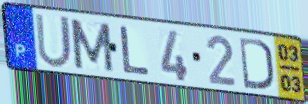2: (205, 34, 238, 89)
4: (159, 27, 191, 84)
D: (238, 35, 276, 92)
L: (119, 24, 152, 77)
M: (67, 17, 116, 74)
U: (33, 11, 74, 70)
